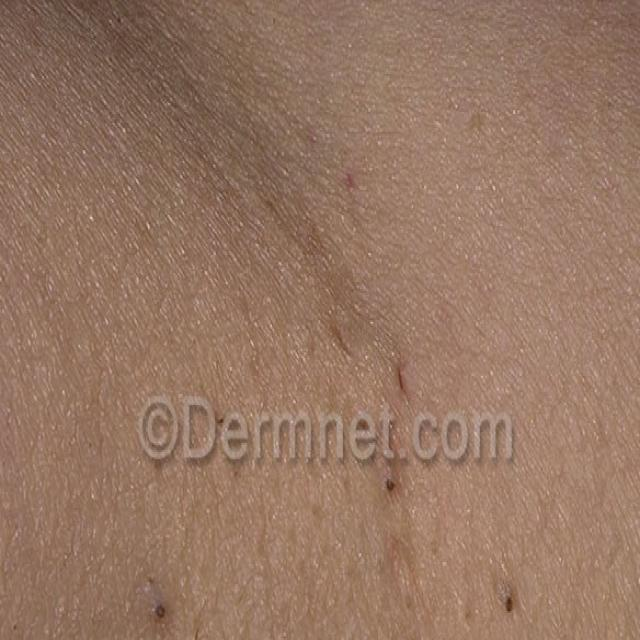Acne: (361, 455, 445, 551), (386, 337, 459, 438), (142, 576, 201, 640), (329, 155, 384, 214), (493, 569, 537, 640)
